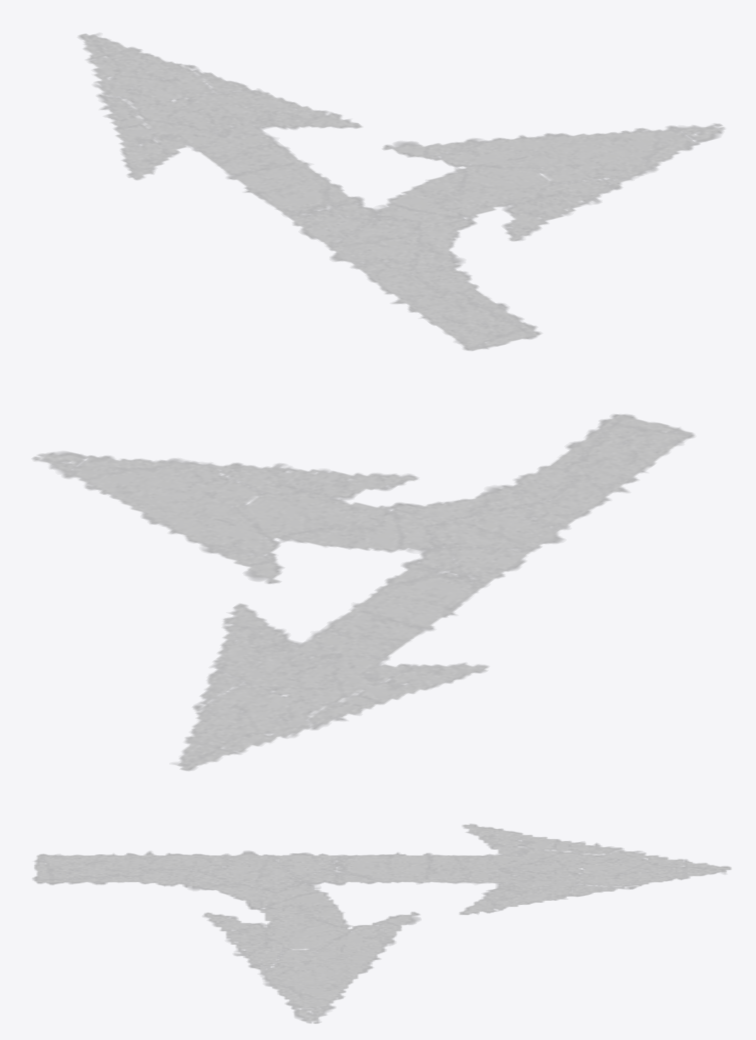
File: Decal_ArrowForwardRight.glb
3 renders of one model, top to bottom at view 1: azimuth 30°, elevation 25°; view 2: azimuth 150°, elevation 25°; view 3: azimuth 270°, elevation 25°, orthographic. The views are drawn at different scales.
Visible parts, largest first — view 1: Decal_ArrowForwardRight; view 2: Decal_ArrowForwardRight; view 3: Decal_ArrowForwardRight.
Part boxes in pixels (box(x1,y1,x2,y2)): Decal_ArrowForwardRight: box(78, 34, 724, 350); Decal_ArrowForwardRight: box(32, 414, 694, 770); Decal_ArrowForwardRight: box(33, 824, 731, 1023).
Size of the model in its own units: 1.78 by 0 by 2.67.
Materials: 1 (1 with a texture image).
